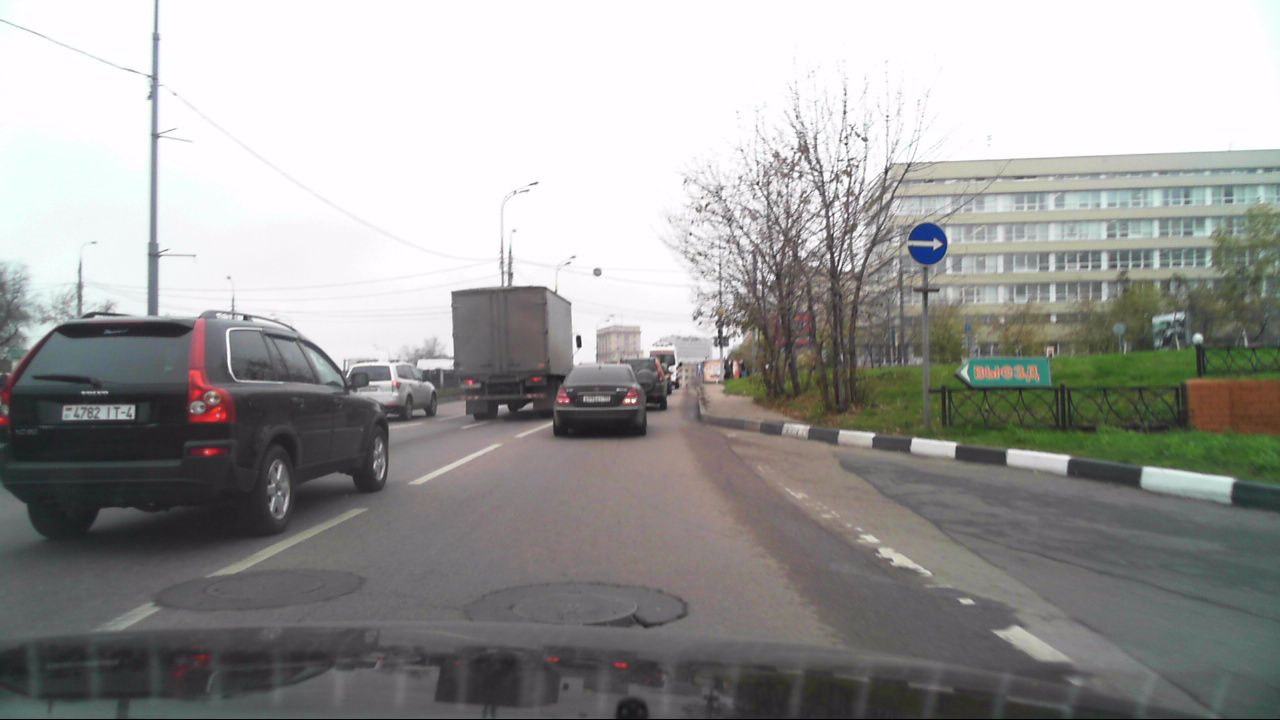Turn Right: (907, 222, 948, 265)
